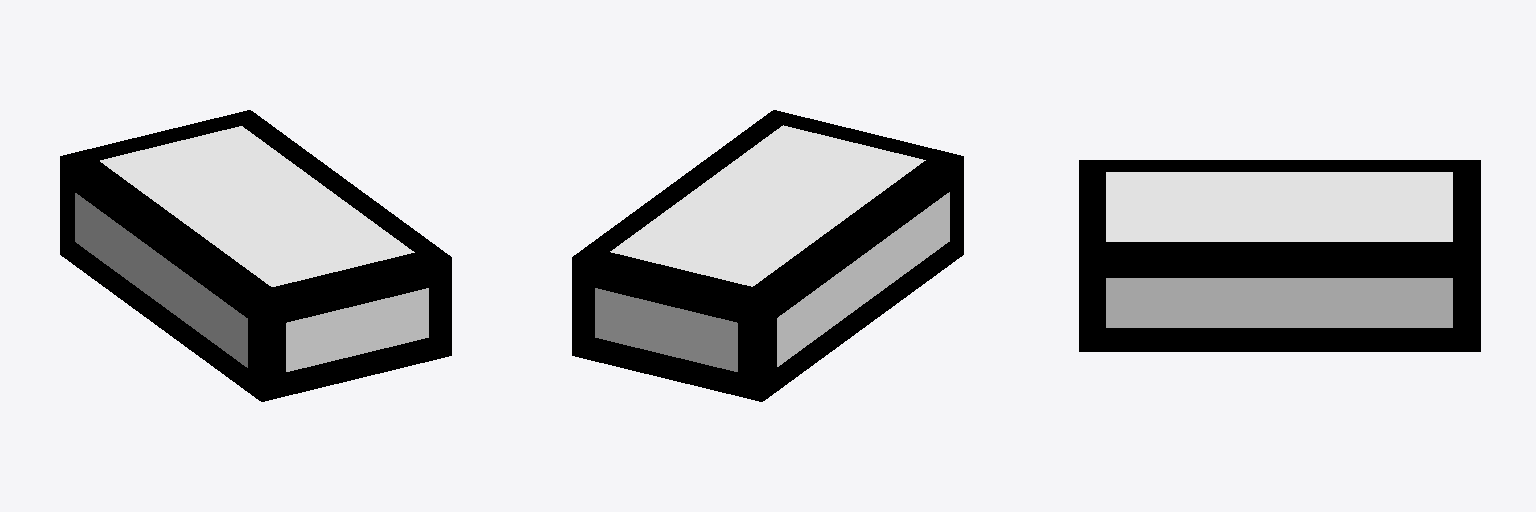
3 renders of one model, left to right at view 1: azimuth 30°, elevation 25°; view 2: azimuth 150°, elevation 25°; view 3: azimuth 270°, elevation 25°, orthographic.
Parts seen in each view (by area): view 1: LegR_立方体.005; view 2: LegR_立方体.005; view 3: LegR_立方体.005.
Boxes of the visible parts, x1=… form: LegR_立方体.005: x1=60, y1=110, x2=451, y2=401; LegR_立方体.005: x1=572, y1=110, x2=963, y2=401; LegR_立方体.005: x1=1079, y1=160, x2=1480, y2=351.
Size of the model in its own units: 0.7981 by 0.3972 by 1.46.
1 materials, 1 textured.